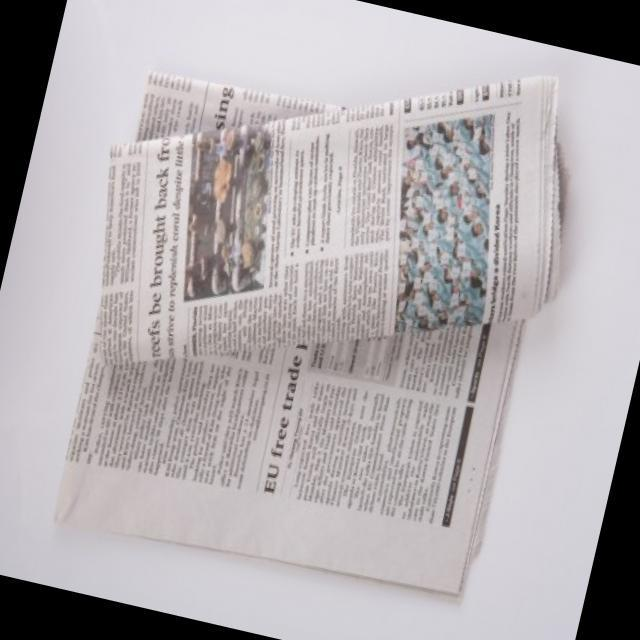reuseable_paper: (15, 15, 588, 640)
